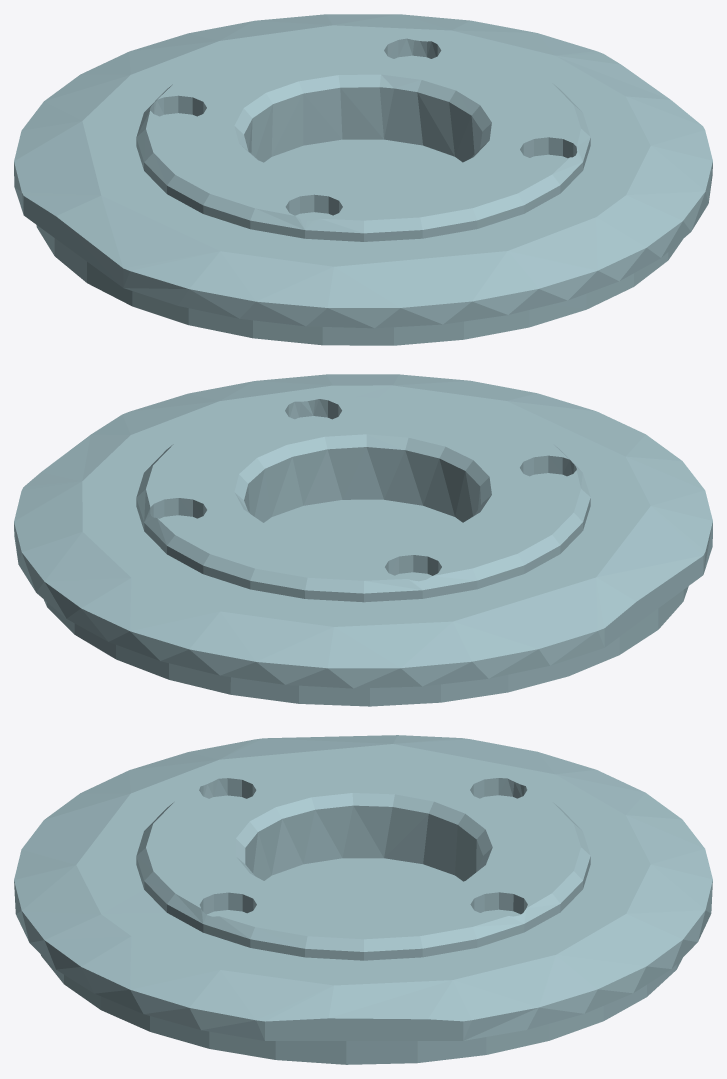
3 renders of one model, top to bottom at view 1: azimuth 30°, elevation 25°; view 2: azimuth 150°, elevation 25°; view 3: azimuth 270°, elevation 25°, orthographic.
Visible parts, largest first — view 1: link7; view 2: link7; view 3: link7.
Boxes of the visible parts, x1,y1,x2,y2 form: link7: [14, 14, 712, 345]; link7: [14, 374, 712, 706]; link7: [14, 735, 712, 1064].
Size of the model in its own units: 0.07 by 0.073 by 0.012.
